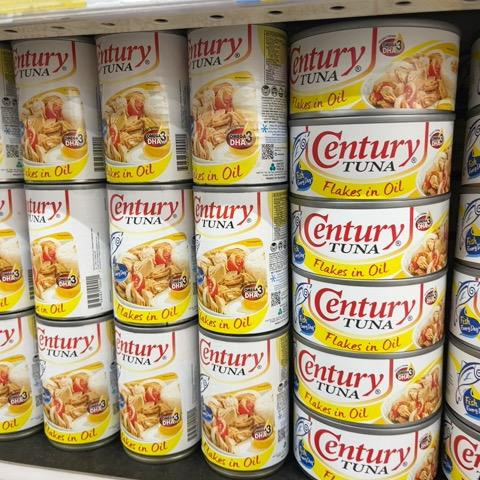canned-goods: (190, 25, 293, 186), (287, 24, 466, 115), (189, 179, 291, 336), (291, 330, 445, 428), (288, 264, 452, 356), (285, 114, 461, 199), (289, 191, 453, 282), (95, 31, 193, 182), (12, 36, 109, 187), (196, 325, 292, 477), (109, 311, 200, 463), (105, 179, 196, 329), (20, 181, 113, 322), (33, 311, 119, 452), (290, 407, 444, 480)
